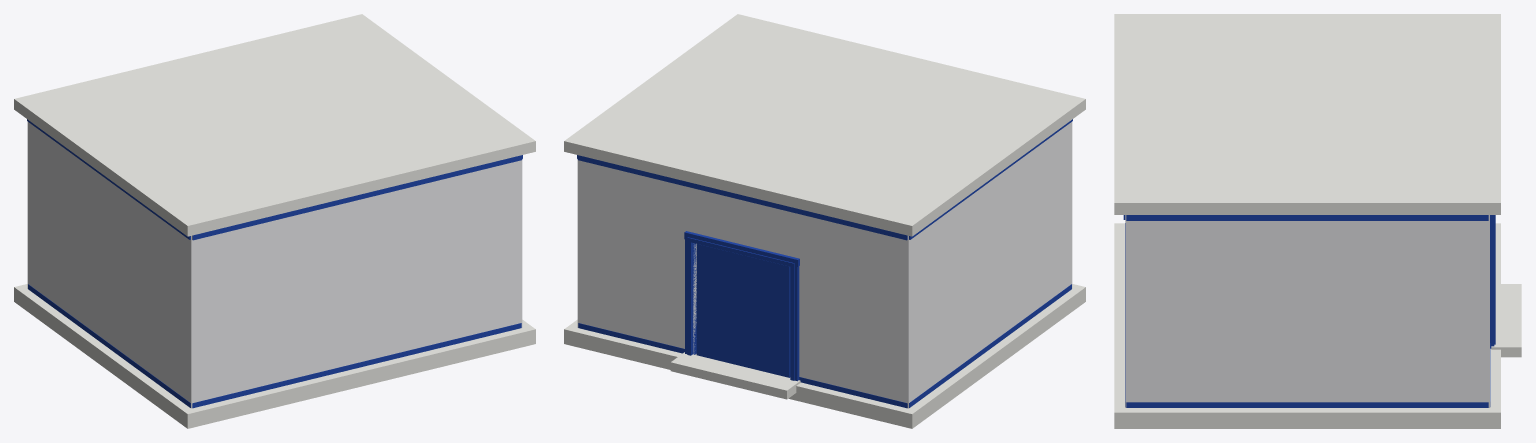
The model's file is SM_Interior_obelisk_player_room_Shell.fbx.
3 renders of one model, left to right at view 1: azimuth 30°, elevation 25°; view 2: azimuth 150°, elevation 25°; view 3: azimuth 270°, elevation 25°, orthographic. The views are drawn at different scales.
Parts seen in each view (by area): view 1: SM_Interior_obelisk_player_room_Shell; view 2: SM_Interior_obelisk_player_room_Shell; view 3: SM_Interior_obelisk_player_room_Shell.
Part boxes in pixels (x1,y1,x2,y2): SM_Interior_obelisk_player_room_Shell: [14, 14, 535, 428]; SM_Interior_obelisk_player_room_Shell: [564, 14, 1085, 428]; SM_Interior_obelisk_player_room_Shell: [1114, 14, 1521, 428].
Bounding box in the file's own units: 7.36 × 4.1 × 6.7.
